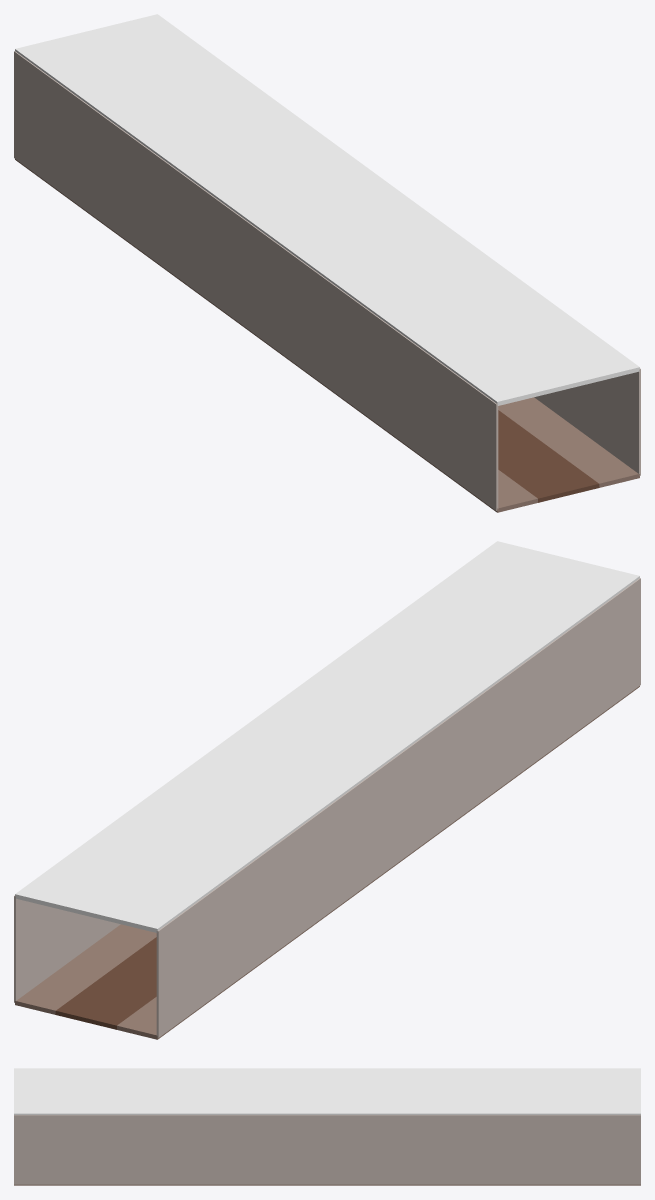
File: Tile1.fbx
3 views of the same model, one above another, from view 1: azimuth 30°, elevation 25°; view 2: azimuth 150°, elevation 25°; view 3: azimuth 270°, elevation 25° (orthographic). The views are drawn at different scales.
Visible parts, largest first — view 1: bobong, pader.001, pader, Cube.001, Cube.002, Cube.003; view 2: bobong, pader.001, pader, Cube.001, Cube.002, Cube.003; view 3: pader, bobong, Cube.002.
Boxes of the visible parts, left/top/right/bottom form: bobong: left=15, top=14, right=639, bottom=405; pader.001: left=14, top=51, right=498, bottom=510; pader: left=534, top=368, right=640, bottom=475; Cube.001: left=498, top=410, right=599, bottom=502; Cube.002: left=498, top=397, right=639, bottom=487; Cube.003: left=15, top=159, right=537, bottom=512; bobong: left=15, top=541, right=639, bottom=932; pader.001: left=156, top=578, right=640, bottom=1037; pader: left=14, top=895, right=120, bottom=1002; Cube.001: left=55, top=937, right=156, bottom=1029; Cube.002: left=15, top=924, right=156, bottom=1014; Cube.003: left=117, top=686, right=639, bottom=1039; pader: left=14, top=1115, right=640, bottom=1184; bobong: left=14, top=1068, right=640, bottom=1114; Cube.002: left=14, top=1184, right=640, bottom=1185.
Bounding box in the file's own units: 1420 × 1040 × 8200.
